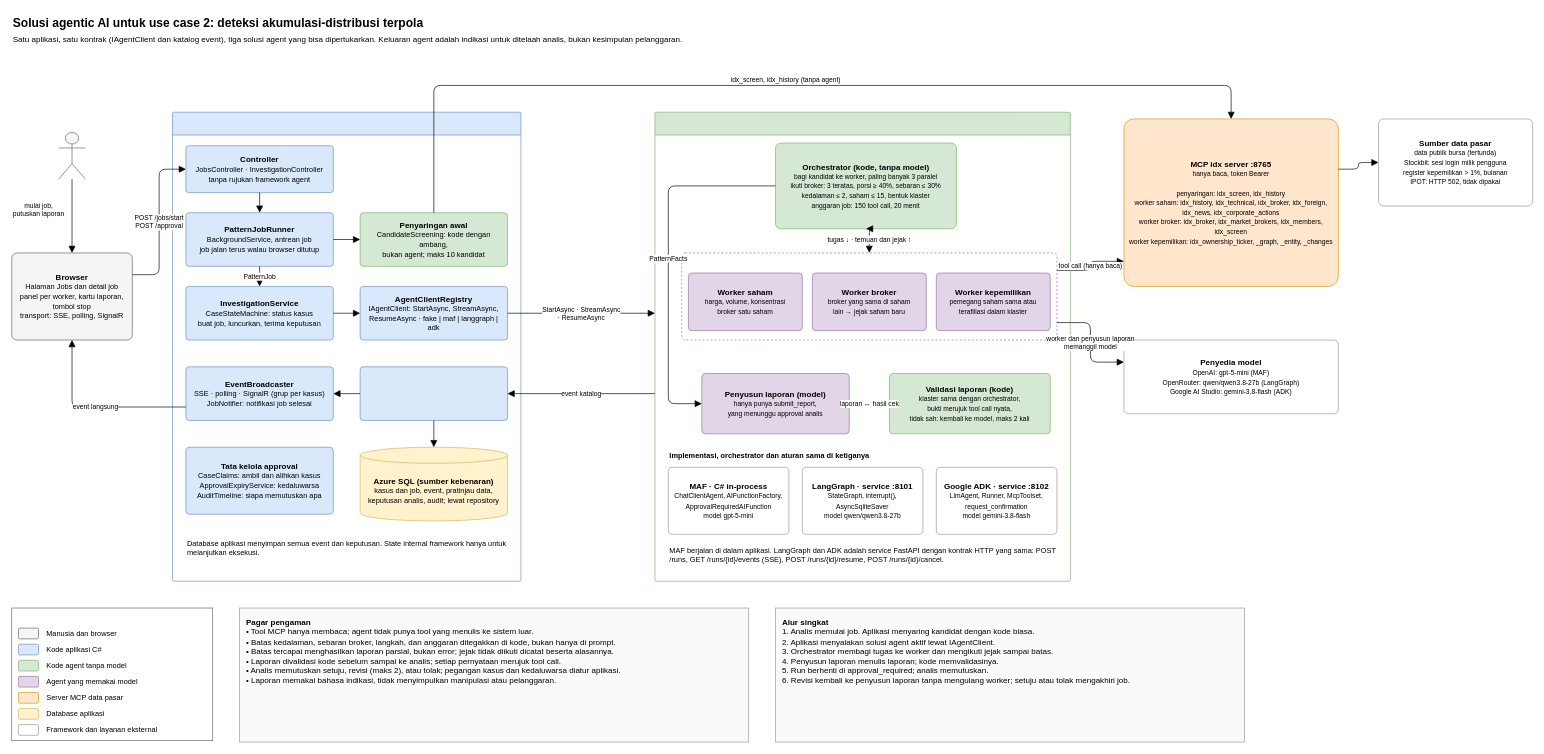
Some shapes in this 1544 by 754 pixel diagram are drawn without their labels. The box of each missing label's shape, as (x1, y1, x2, y2) in pixels:
Analis / supervisor: (58, 132, 85, 179)
Aplikasi .NET MVC (Surveillance.Web): (172, 112, 521, 581)
Keterangan warna: (11, 607, 213, 741)
RunPump membaca StreamAsync, menyimpan setiap event, lalu menyiarkannya: (359, 366, 508, 420)
Solusi agent (satu dari tiga, dipilih di halaman Setting): (654, 112, 1070, 581)
Worker (model), 12 langkah per worker, diakhiri finish_worker: (681, 252, 1057, 340)
